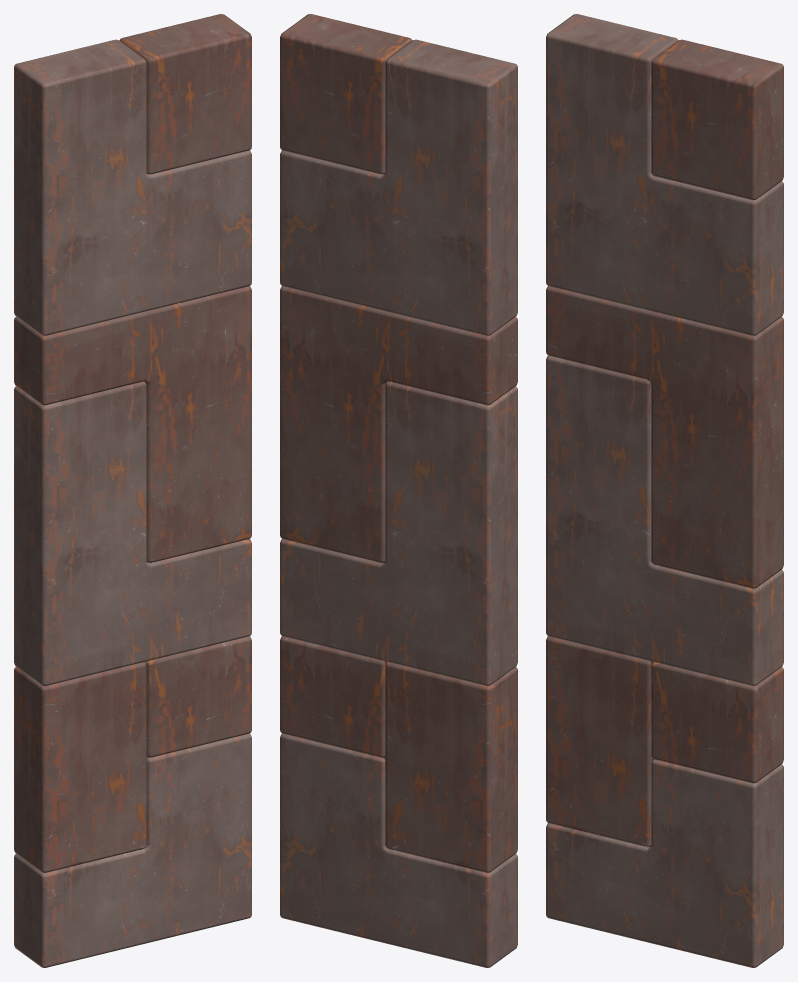
File: wall_002.fbx
The picture shows the model from 3 angles, left to right: view 1: azimuth 30°, elevation 25°; view 2: azimuth 150°, elevation 25°; view 3: azimuth 330°, elevation 25°; orthographic projection.
Parts seen in each view (by area): view 1: wall_002; view 2: wall_002; view 3: wall_002.
Boxes of the visible parts, left/top/right/bottom form: wall_002: left=14, top=14, right=251, bottom=967; wall_002: left=280, top=14, right=517, bottom=967; wall_002: left=546, top=14, right=783, bottom=967.
Bounding box in the file's own units: 6022 × 1500 × 24154.
